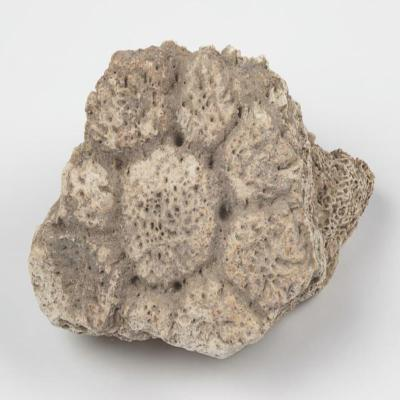natural_science_collection: (28, 41, 376, 361)
